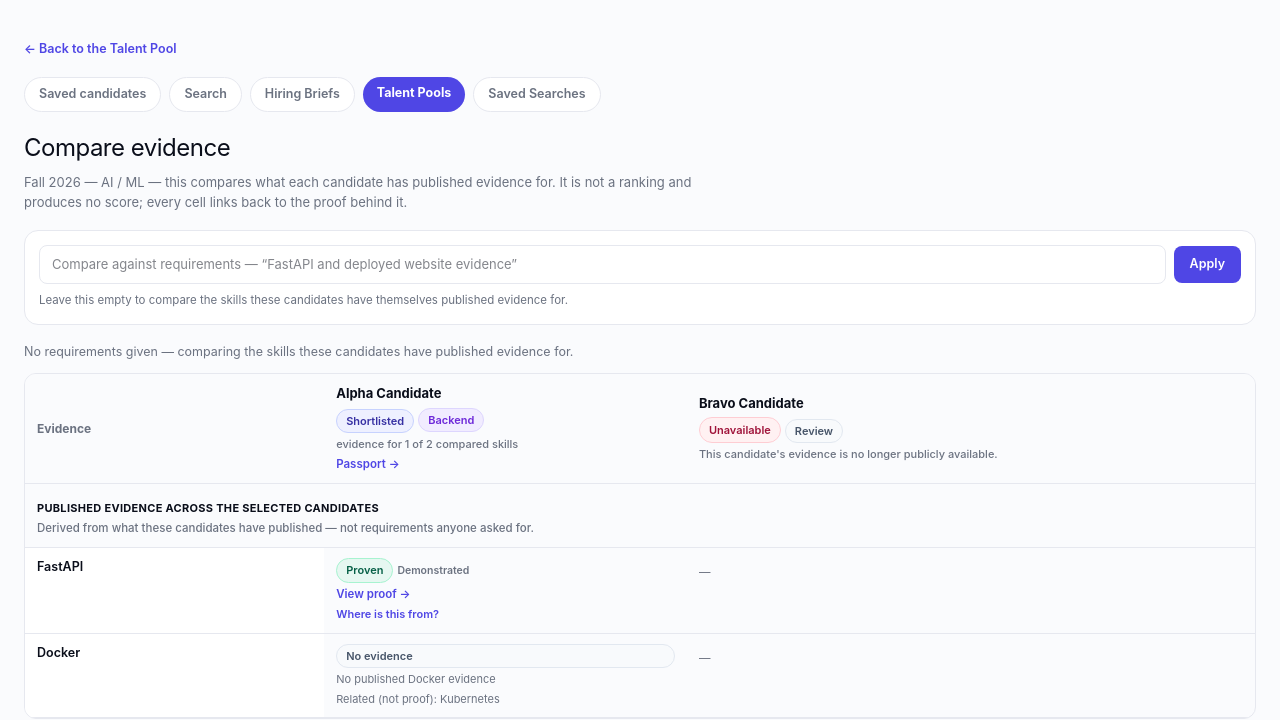
Test: Talent Pool comparison › exposes the whole proof trail: skill → project → report → proof
The image size is (1280, 720).
Check: the table with test id "comparison-matrix" is shown, box [25,374,1255,718]
What coordinates should you click on to do the following:
click the button with test id "matrix-cell-trace-toggle"
I would click on:
 (388, 614)
Its box is [336,606,439,622].
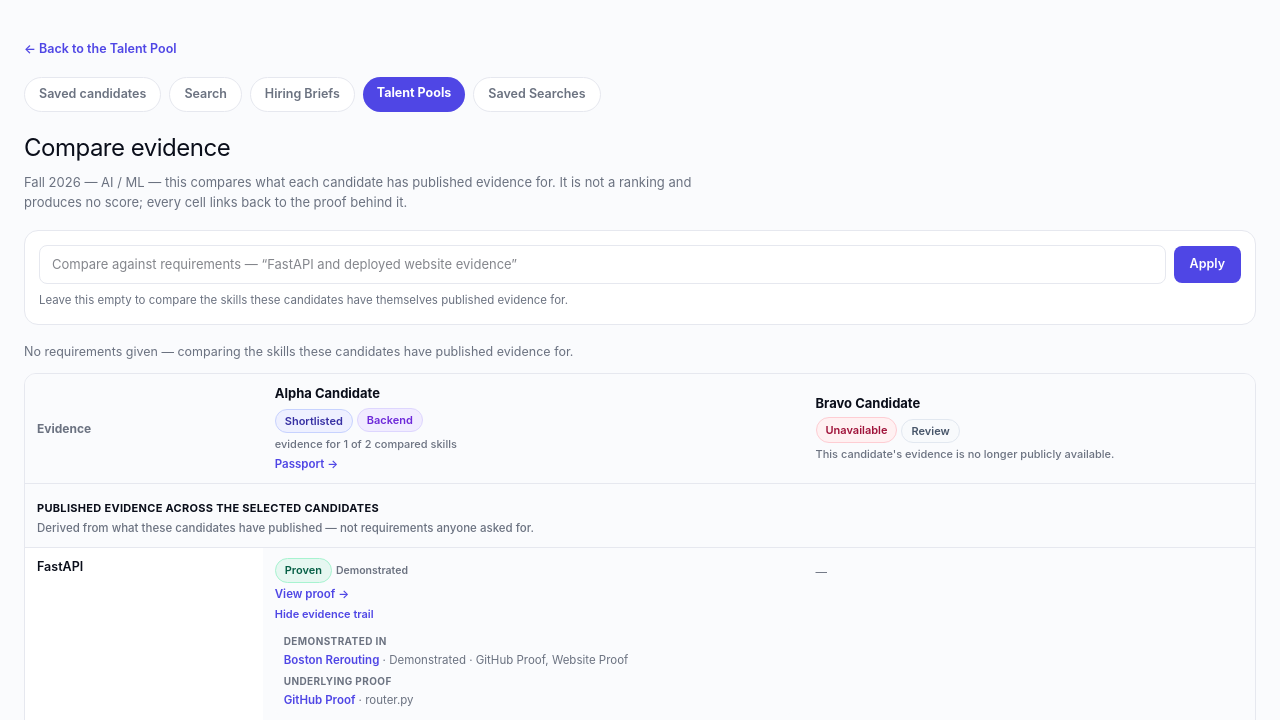
Check: the element with test id "matrix-cell-trace" shows "GitHub Proof", box [284,693,355,707]
